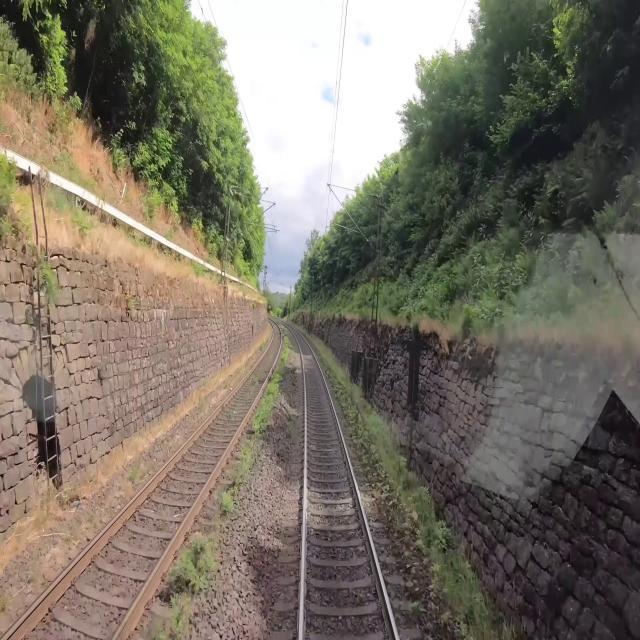Plant: (316, 347, 416, 545), (164, 530, 226, 639), (251, 320, 290, 441), (218, 440, 258, 514), (429, 581, 450, 625), (150, 615, 169, 639), (408, 596, 421, 627), (286, 413, 297, 441), (259, 339, 268, 351)
